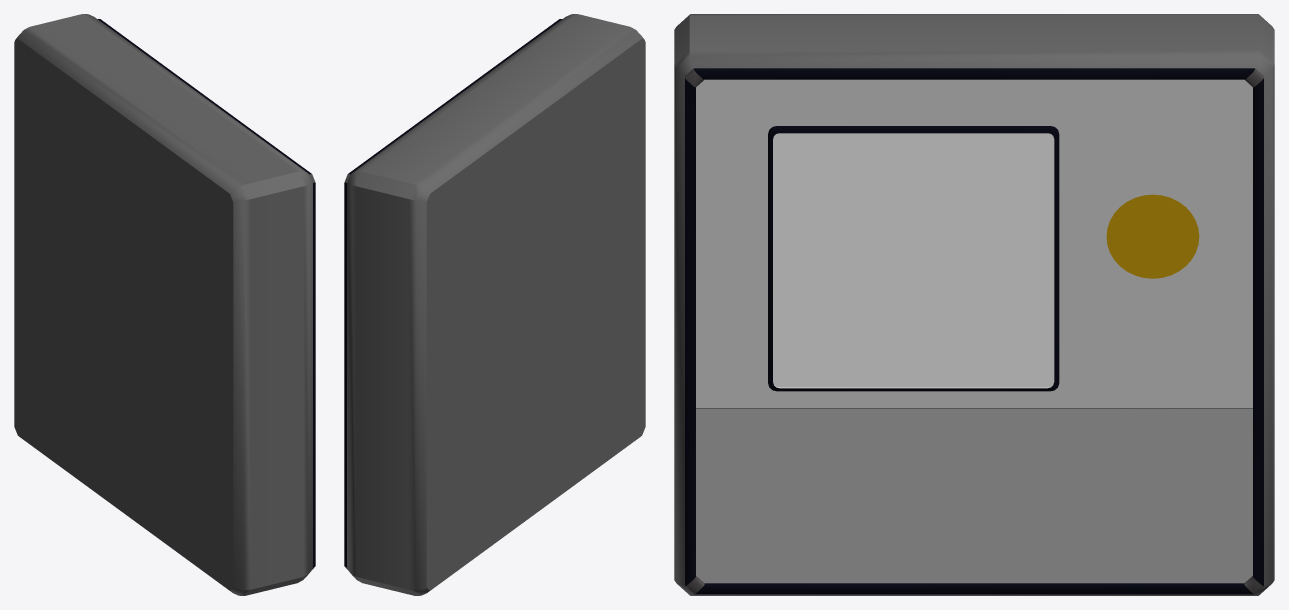
Rendered from EndTerminal.fbx.
3 views of the same model, side by side, from view 1: azimuth 30°, elevation 25°; view 2: azimuth 150°, elevation 25°; view 3: azimuth 270°, elevation 25° (orthographic). The views are drawn at different scales.
Parts seen in each view (by area): view 1: Terminal; view 2: Terminal; view 3: Terminal.
Boxes of the visible parts, x1,y1,x2,y2 form: Terminal: [14, 14, 315, 595]; Terminal: [344, 14, 645, 595]; Terminal: [674, 14, 1274, 595].
Bounding box in the file's own units: 0.2633 × 1.24 × 1.24.
